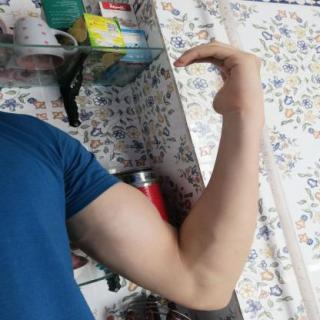HAA: (163, 33, 279, 124)
